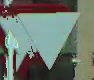Give way: (1, 3, 78, 75)
